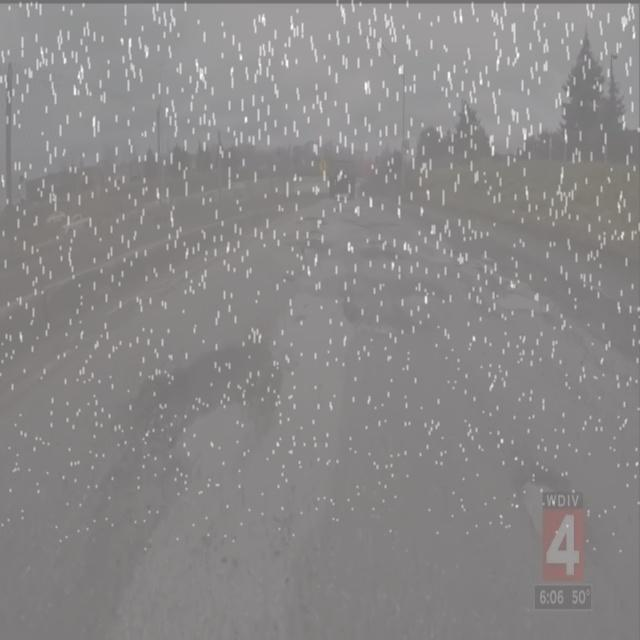Pothole: (43, 276, 359, 640), (507, 451, 567, 535), (463, 274, 556, 320), (376, 273, 452, 308), (360, 235, 408, 270)
